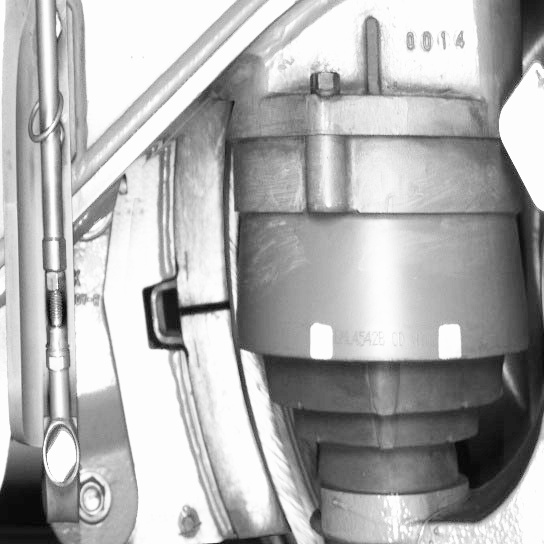ClosedKnifeSwitch: (178, 136, 301, 541)
